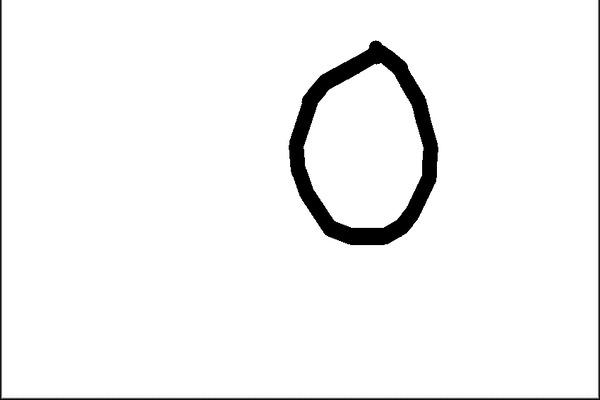O: (271, 27, 451, 251)
